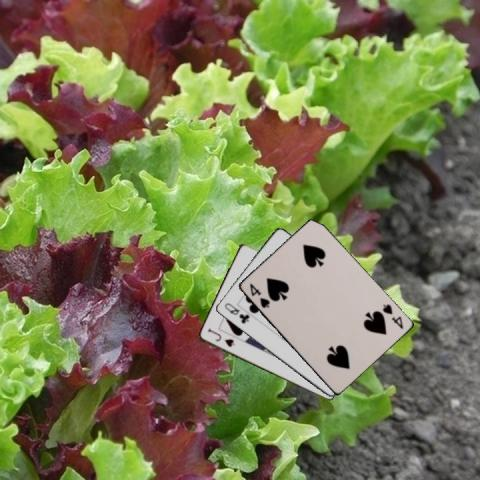4s: (379, 301, 405, 331), (246, 280, 270, 309)
Js: (205, 325, 236, 349)
Qc: (221, 300, 251, 325)
